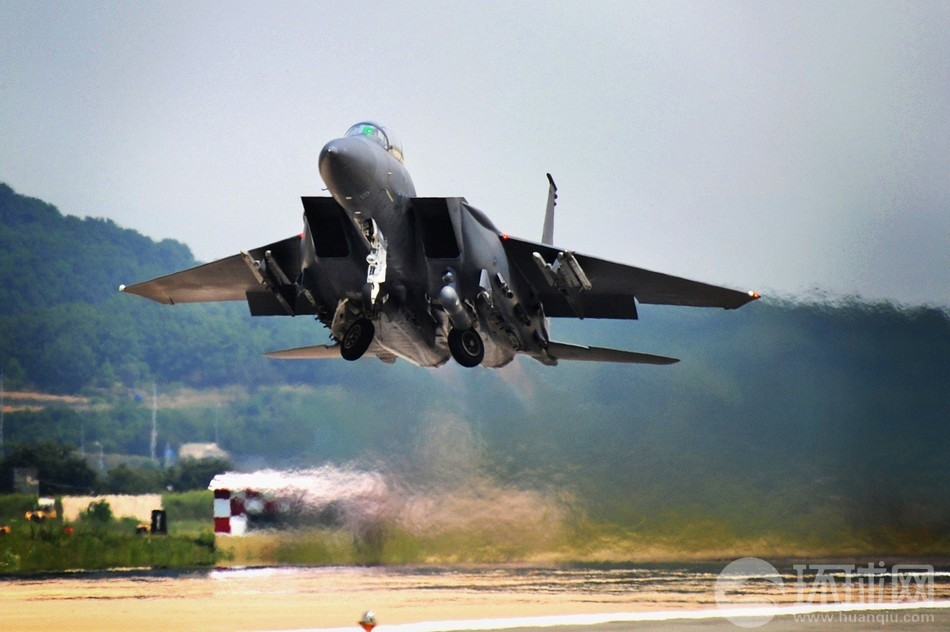airplane: (118, 117, 765, 371)
